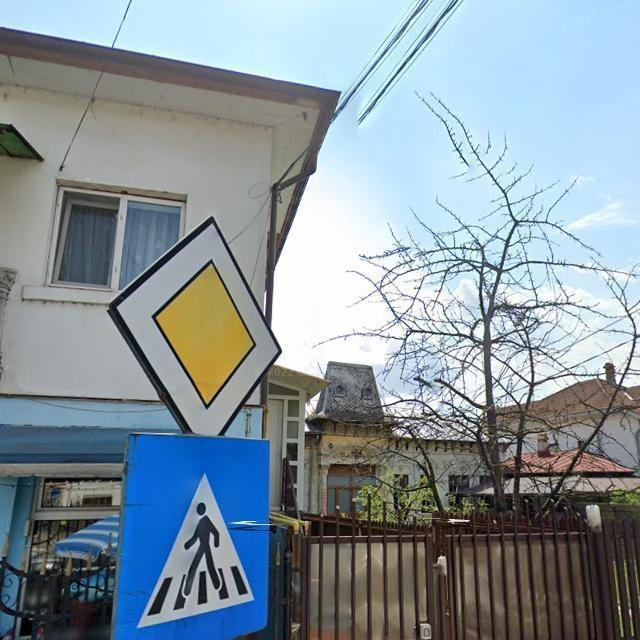info_crosswalk: (106, 432, 272, 640)
